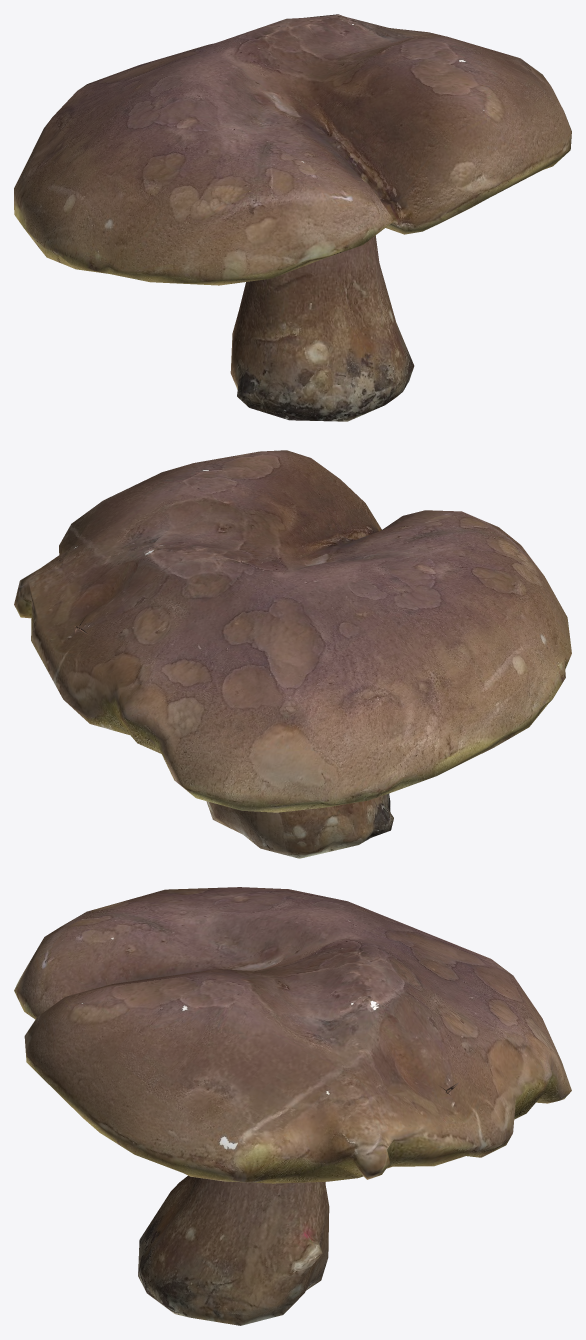
3 renders of one model, top to bottom at view 1: azimuth 30°, elevation 25°; view 2: azimuth 150°, elevation 25°; view 3: azimuth 270°, elevation 25°, orthographic. The views are drawn at different scales.
Parts seen in each view (by area): view 1: mushroom_06; view 2: mushroom_06; view 3: mushroom_06.
Boxes of the visible parts, box(x1,y1,x2,y2) form: mushroom_06: box(14, 14, 571, 421); mushroom_06: box(14, 450, 571, 858); mushroom_06: box(14, 887, 571, 1325).
Bounding box in the file's own units: 76.32 × 84.67 × 53.
